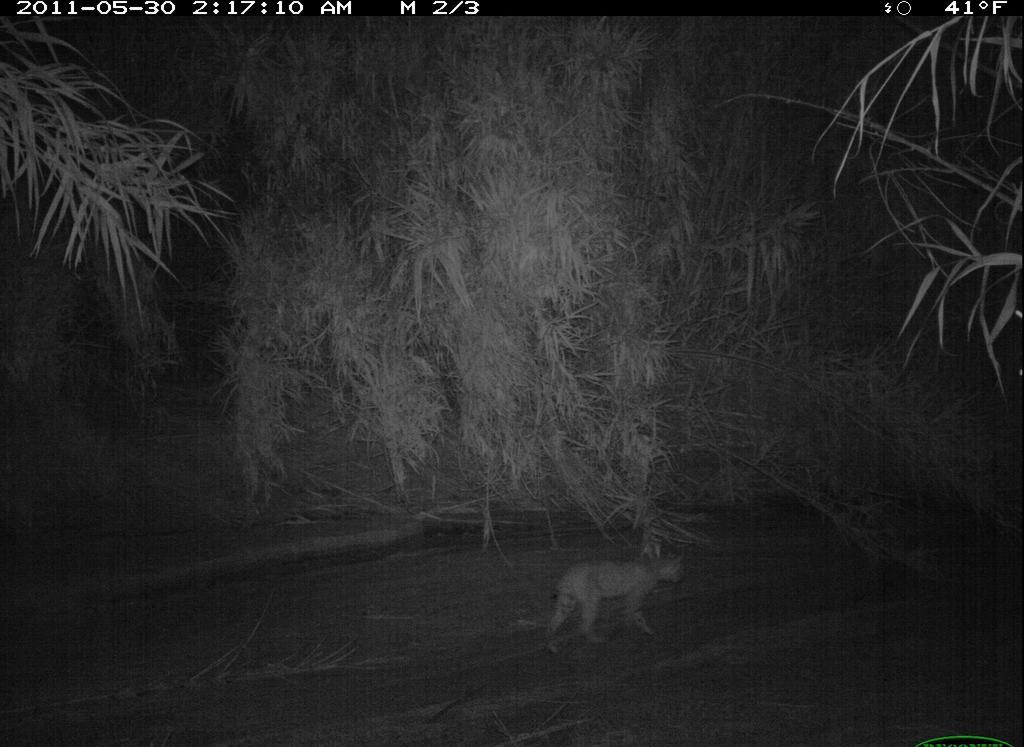bobcat: (543, 538, 708, 656)
